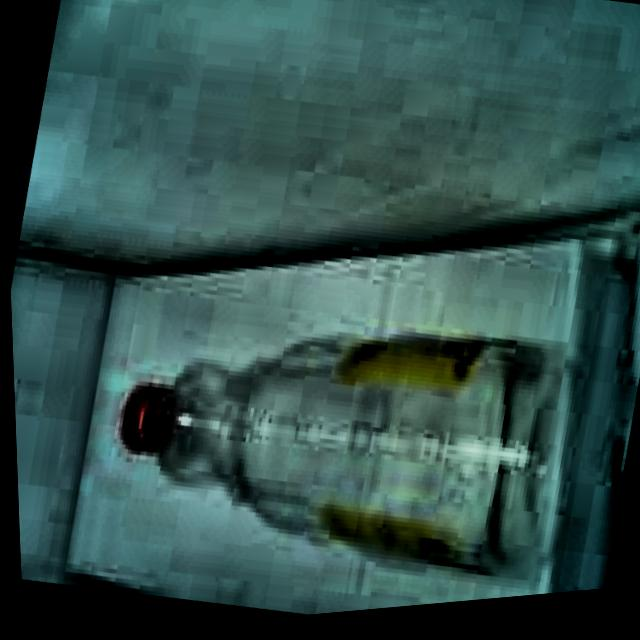Bottles: (71, 259, 597, 636)
